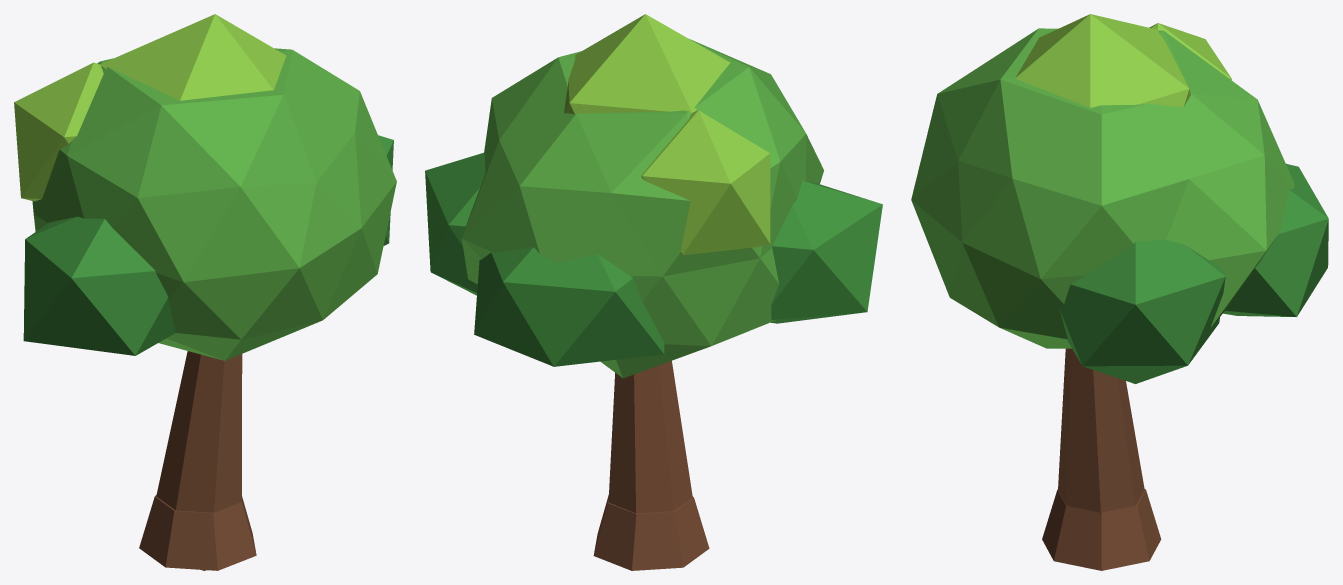
Rendered from Tree_Oak_B.fbx.
The picture shows the model from 3 angles, left to right: view 1: azimuth 30°, elevation 25°; view 2: azimuth 150°, elevation 25°; view 3: azimuth 270°, elevation 25°; orthographic projection.
Visible parts, largest first — view 1: Tree_Oak_B; view 2: Tree_Oak_B; view 3: Tree_Oak_B.
Boxes of the visible parts, x1,y1,x2,y2 form: Tree_Oak_B: [14, 14, 396, 570]; Tree_Oak_B: [425, 14, 882, 570]; Tree_Oak_B: [911, 14, 1328, 570].
Size of the model in its own units: 4.21 by 5.36 by 3.7.
